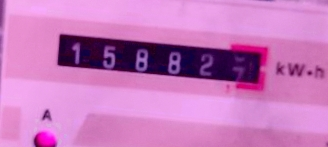1: (67, 40, 84, 66)
2: (197, 51, 214, 76)
5: (99, 42, 118, 69)
7: (230, 62, 245, 83)
8: (132, 46, 151, 74), (165, 49, 182, 75)
screen: (40, 16, 278, 103)
